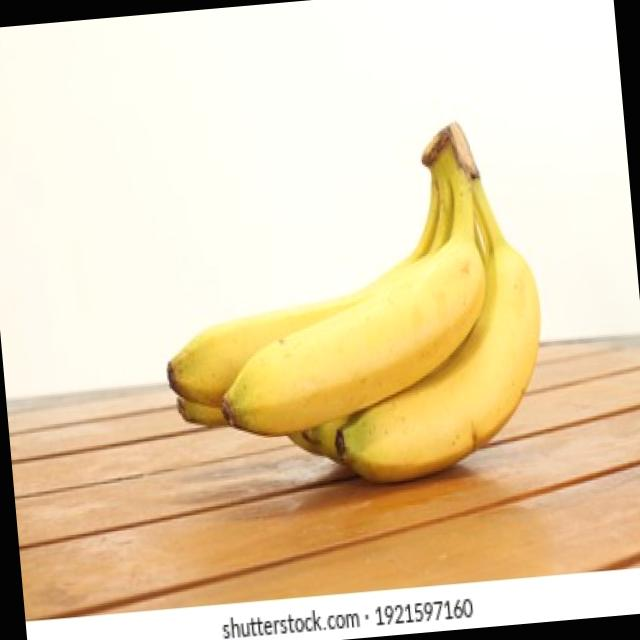Platano: (147, 117, 552, 502)
